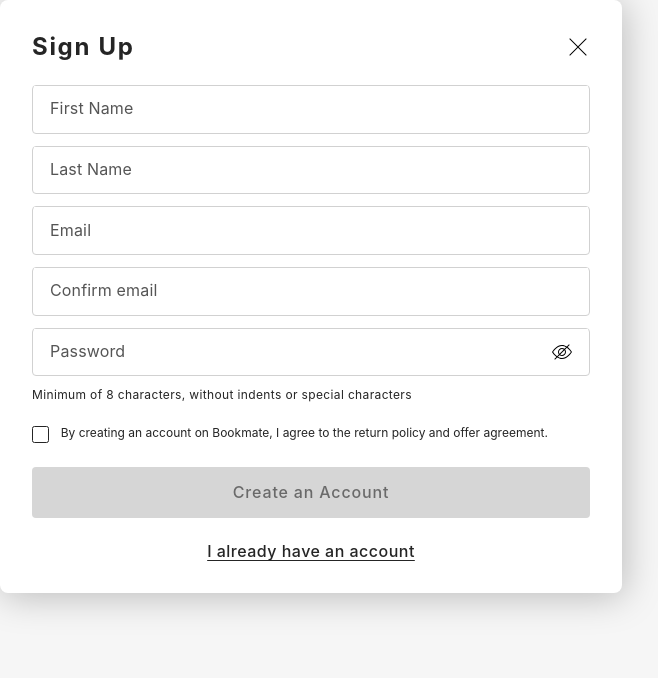
Test case: RegisterForm component › Validation logic › should display email mismatch error when emails do not match
This screenshot has width=658, height=678.
Check: the text "Confirm email" is shown, box [34,268,588,314]
Click the text "Email". click: (311, 230)
box: [34,207,588,253]
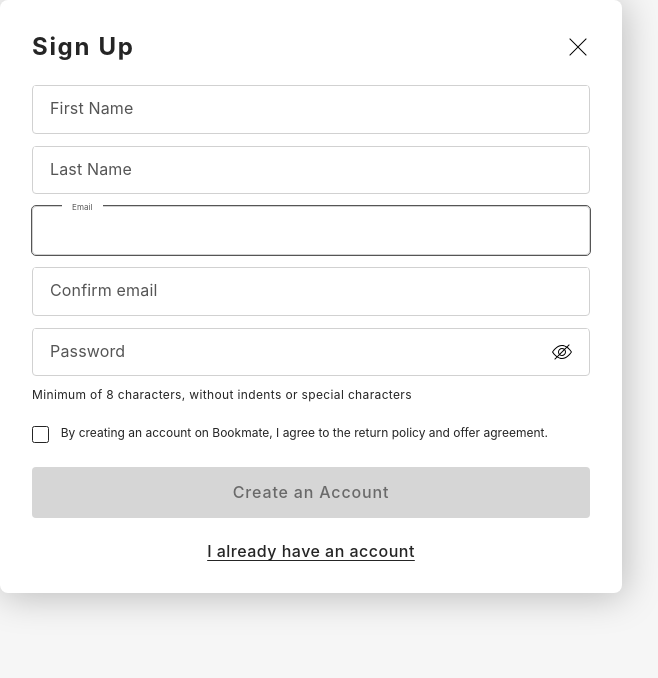
Check: the text "The email address does not match" is not shown
Type "testEmail@gmail.com" into the field named "email". click: (311, 231)
box: [32,206,590,255]
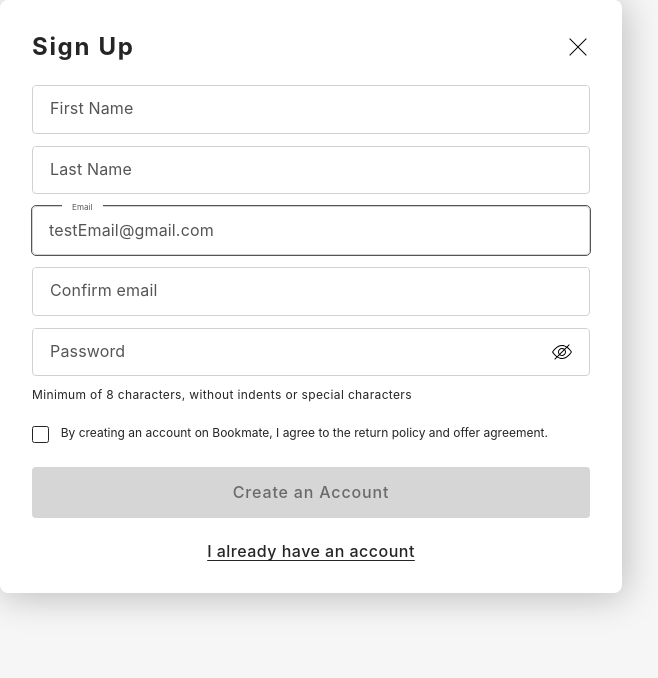
Click the text "Confirm email". click: (311, 291)
box: [34,268,588,314]
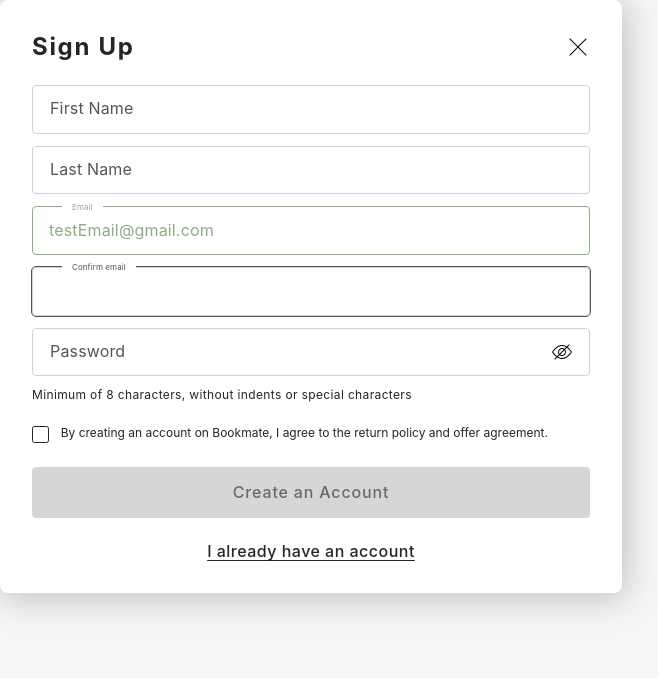
Type "testEmail@gmail.comw" into the field named "confirmEmail". click: (311, 291)
box: [32,267,590,316]
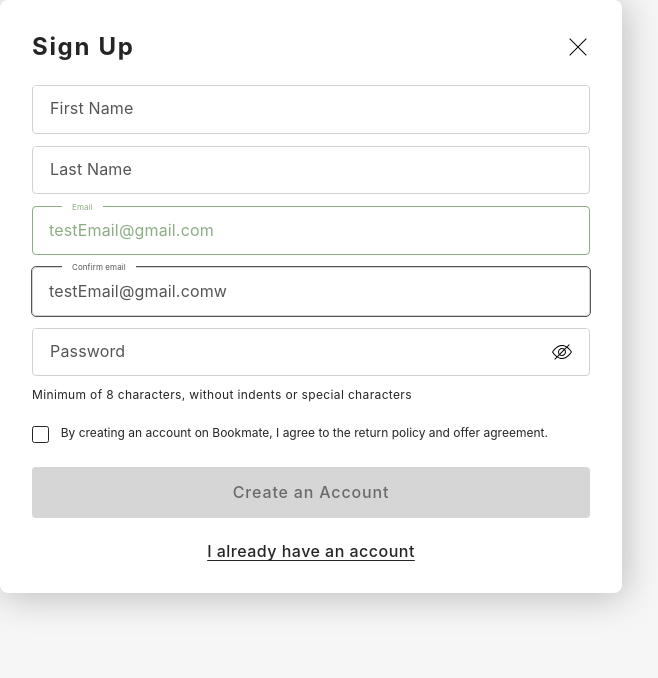
Press Tab
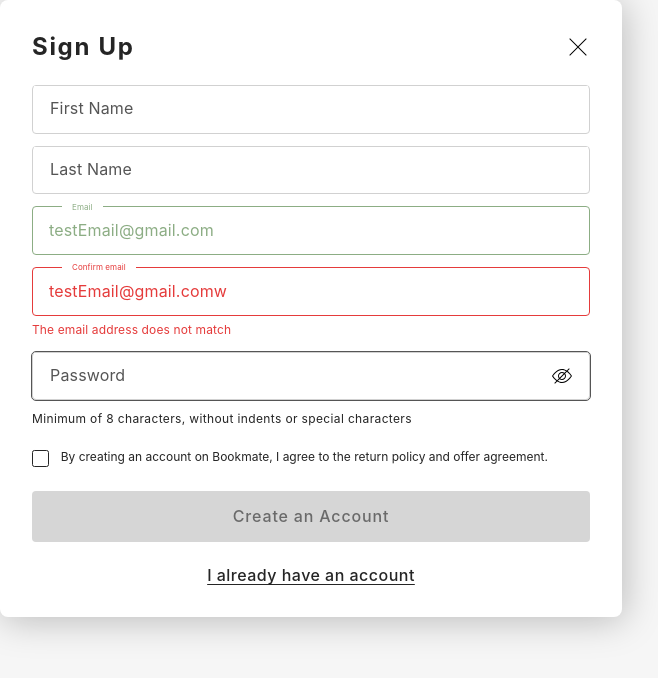
Check: the text "The email address does not match" is shown, box [32,322,231,337]
Type "testEmail@gmail.com" into the field named "confirmEmail". click: (311, 291)
box: [32,267,590,316]
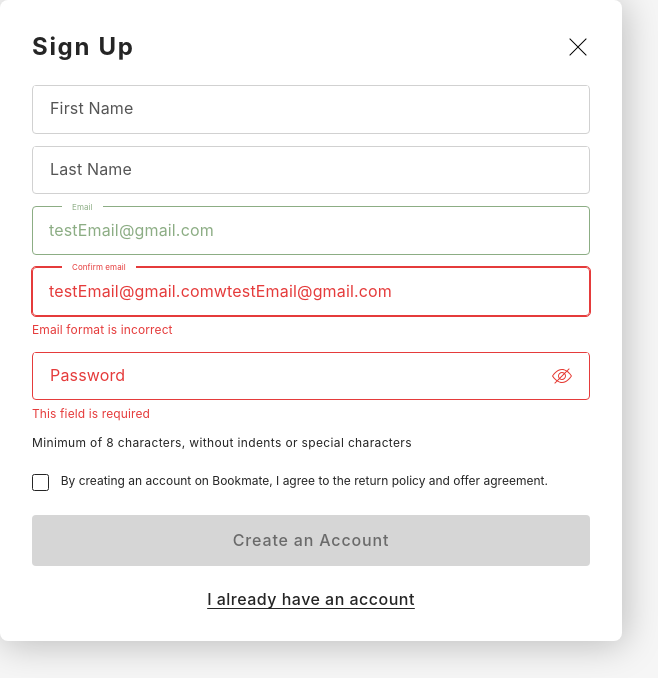
Check: the text "The email address does not match" is gone
